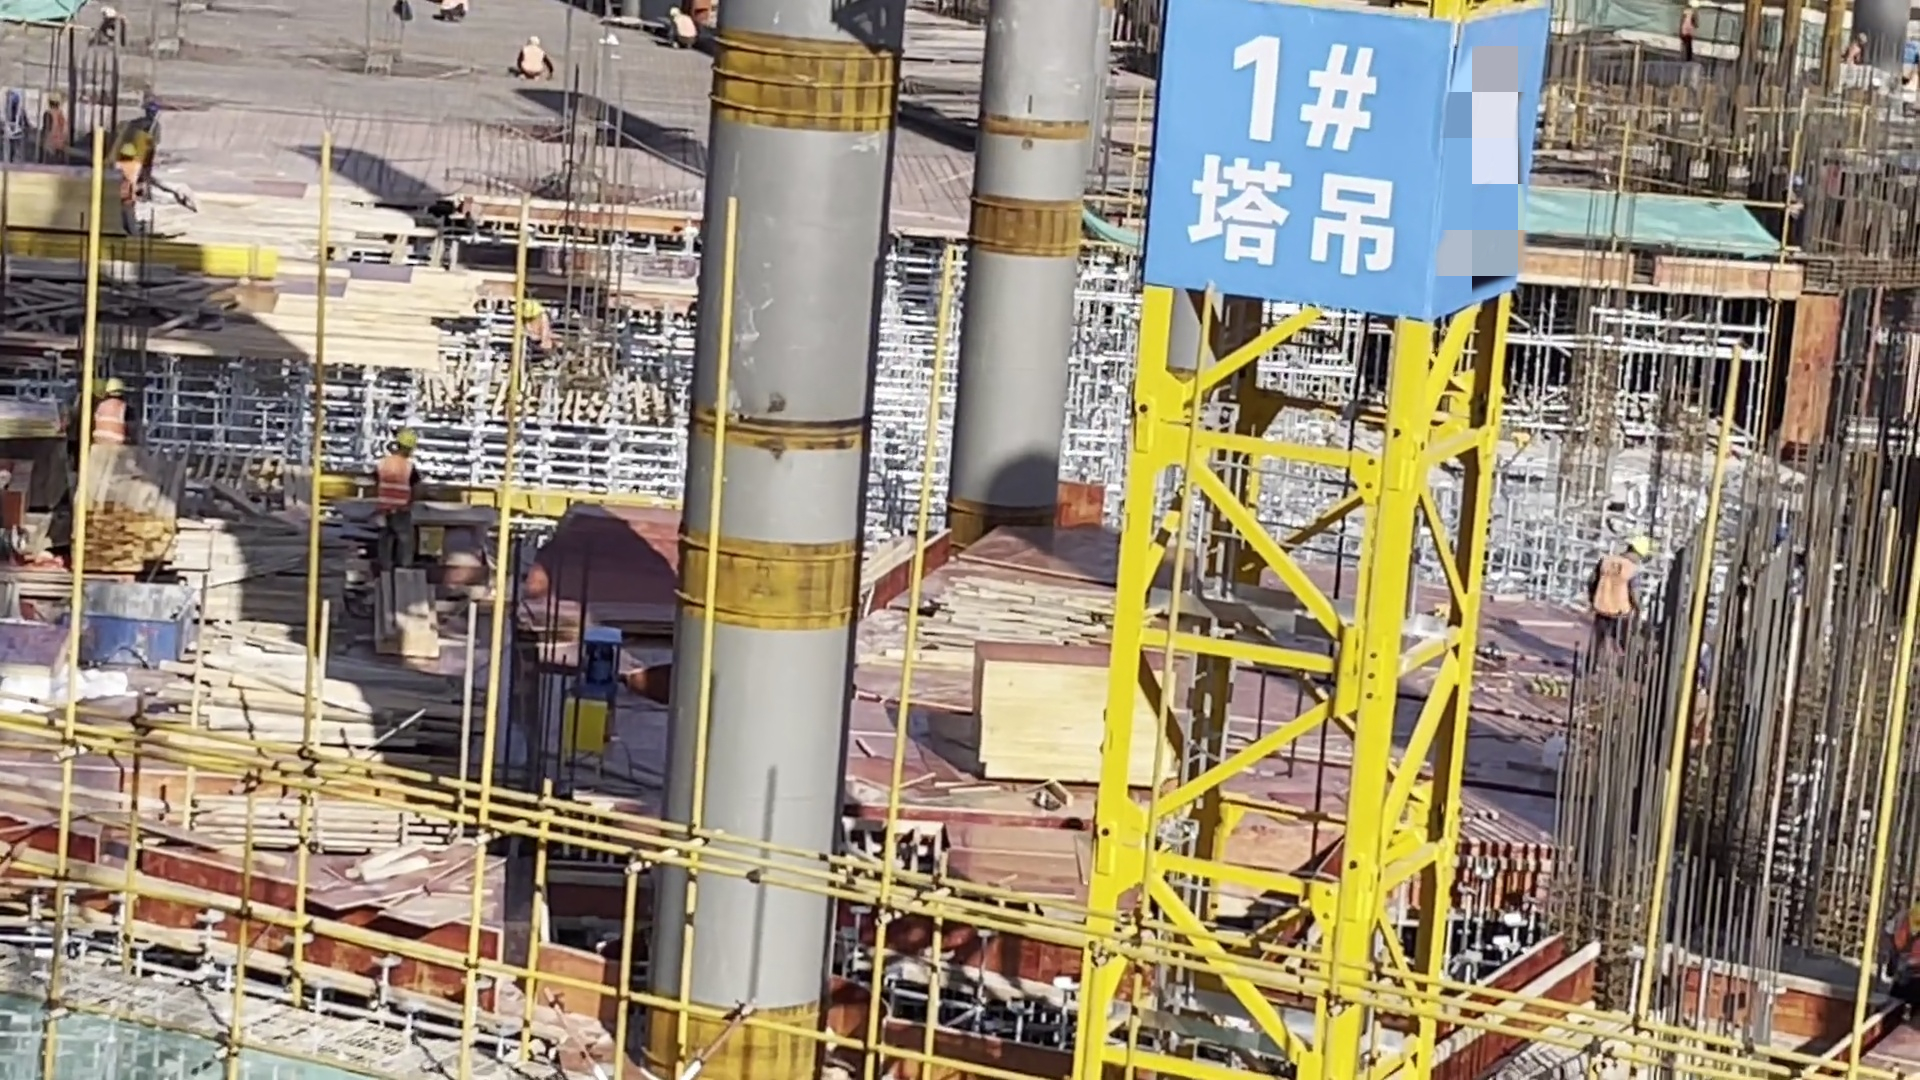helmet: (393, 426, 421, 459), (1625, 536, 1651, 562), (522, 299, 545, 320), (104, 378, 125, 401), (47, 91, 64, 109), (119, 142, 136, 158), (526, 35, 544, 49)
person: (377, 424, 431, 598), (1594, 527, 1655, 672), (106, 140, 177, 219), (1880, 899, 1920, 1036), (136, 90, 170, 206), (93, 381, 137, 462), (513, 24, 562, 88), (662, 2, 713, 56), (520, 293, 554, 371), (43, 84, 72, 166), (1670, 1, 1706, 59), (90, 8, 136, 52), (431, 1, 475, 36), (1837, 29, 1872, 68)
vest: (1593, 554, 1643, 633), (375, 453, 423, 524), (96, 401, 135, 453), (112, 161, 148, 205), (47, 107, 68, 149)
